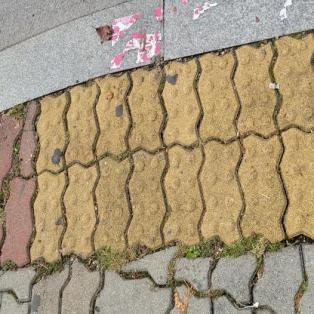Podoctatil: (0, 23, 313, 274)
